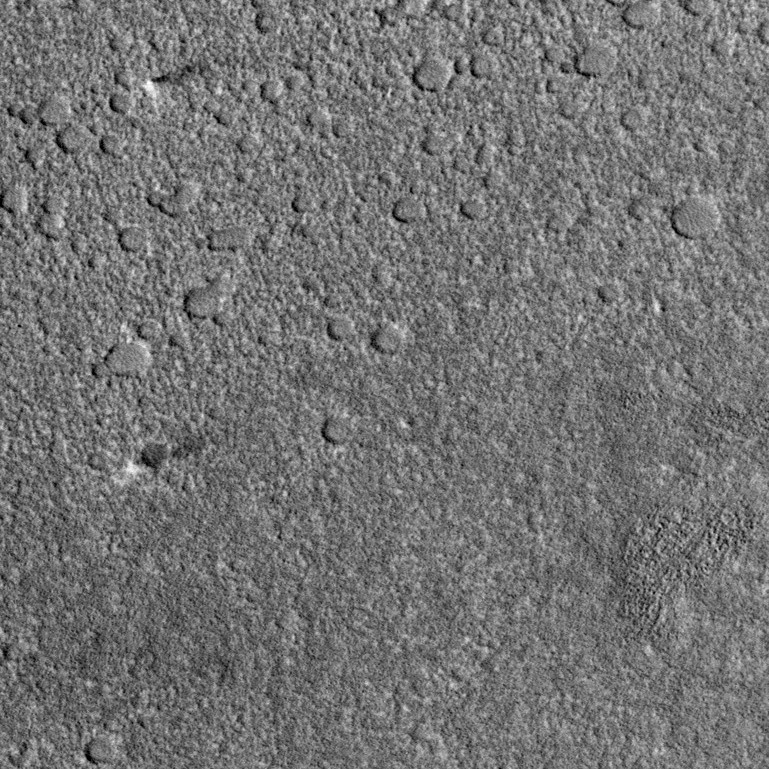dust_devil: (120, 436, 212, 481), (139, 59, 201, 101)
